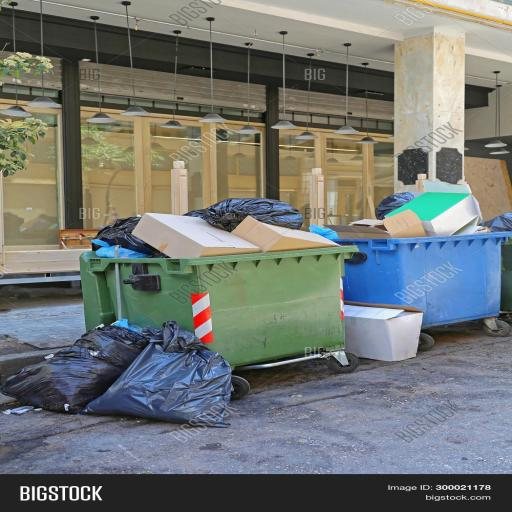contenedor_lleno: (0, 0, 511, 419)
